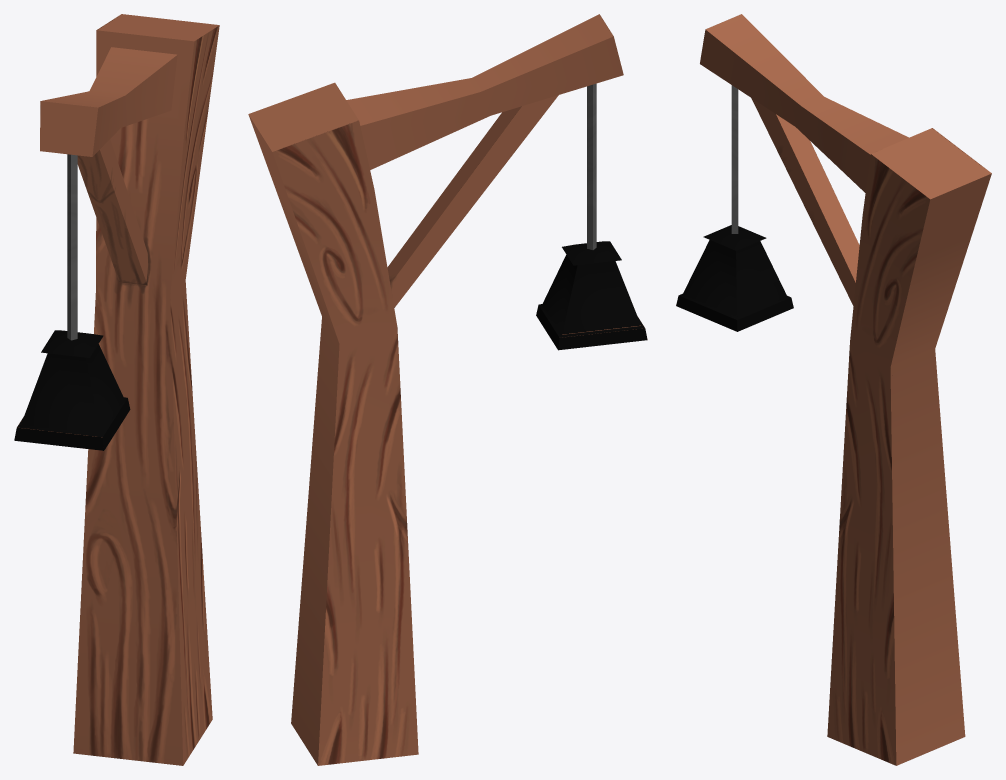
Rendered from campana.fbx.
The picture shows the model from 3 angles, left to right: view 1: azimuth 30°, elevation 25°; view 2: azimuth 150°, elevation 25°; view 3: azimuth 270°, elevation 25°; orthographic projection. The views are drawn at different scales.
Visible parts, largest first — view 1: Campana; view 2: Campana; view 3: Campana.
Boxes of the visible parts, x1=… form: Campana: x1=14, y1=14, x2=219, y2=765; Campana: x1=248, y1=14, x2=647, y2=765; Campana: x1=676, y1=14, x2=991, y2=765.
Size of the model in its own units: 1.97 by 4.4 by 1.96.
